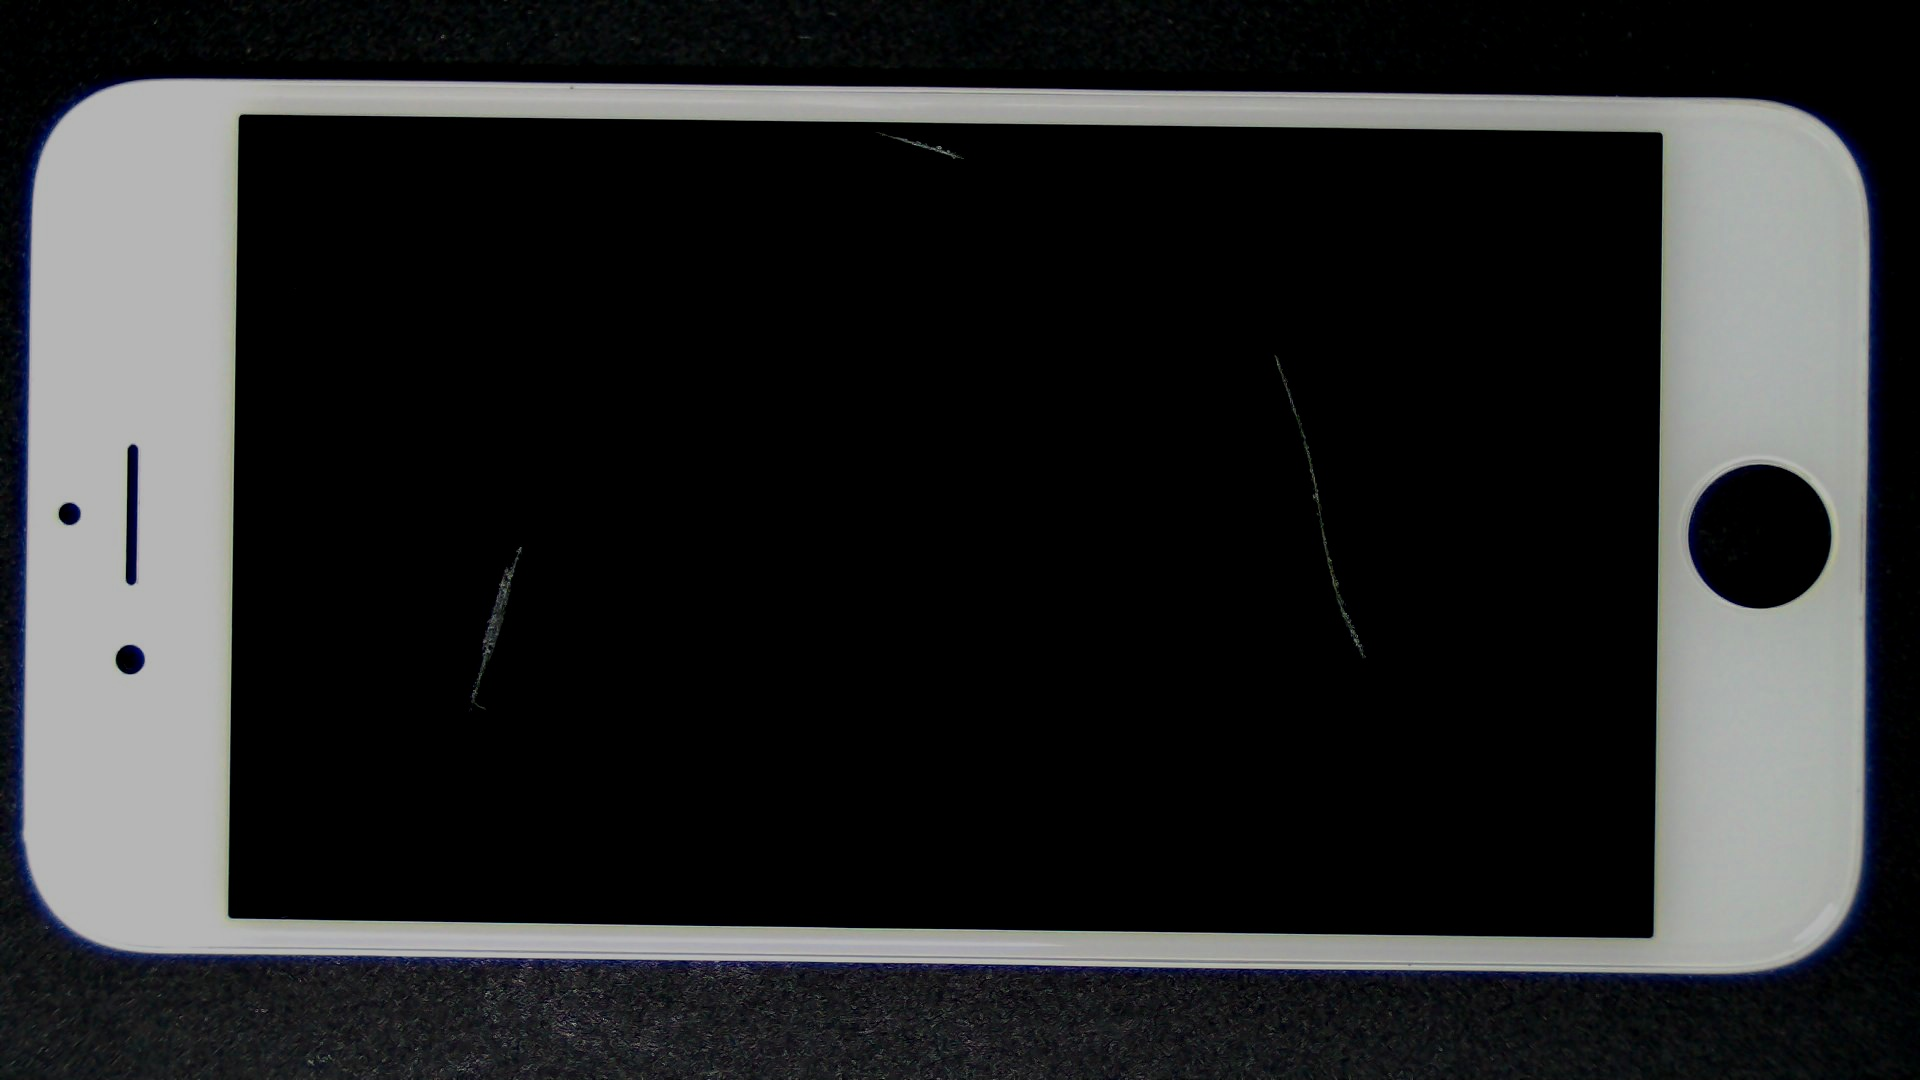oil: (636, 175, 1907, 527), (261, 272, 781, 819), (440, 65, 1317, 194)
